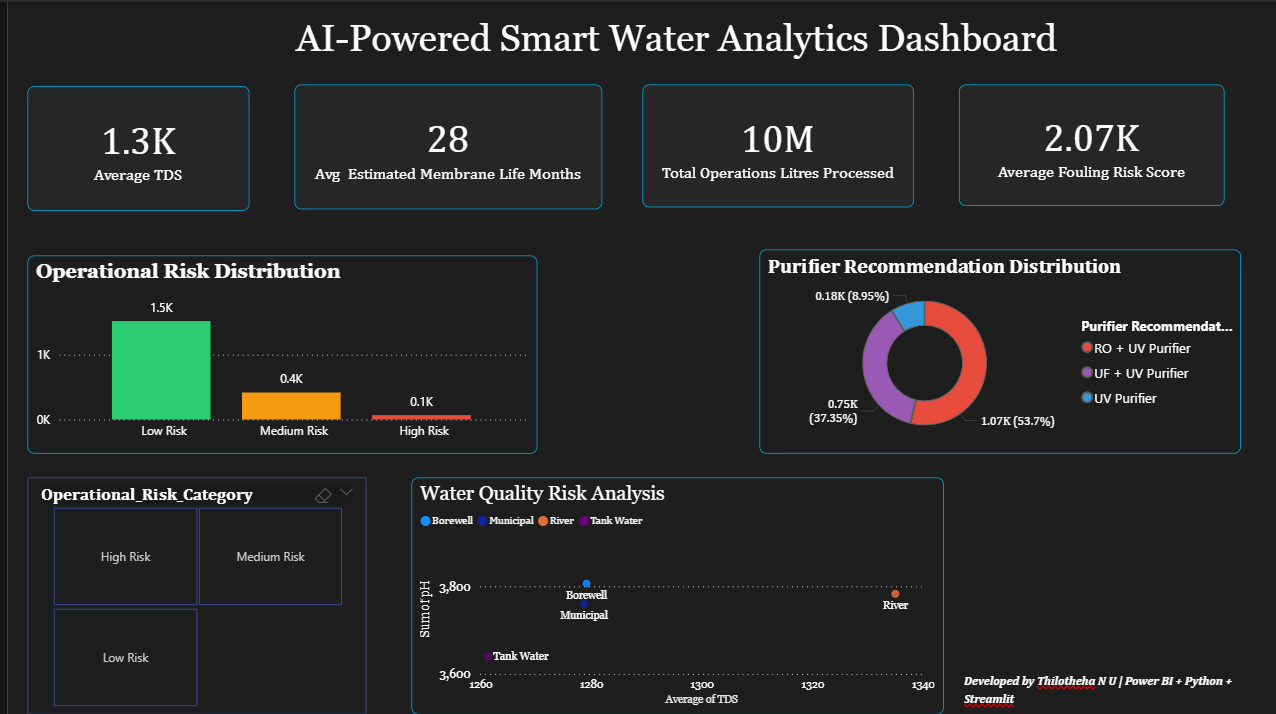

The dashboard page shown, as its layout file describes it:
{"tool":"powerbi","page":{"name":"Page 1","canvas":[1280,720],"ordinal":0},"visuals":[{"type":"card","fields":{"Values":["Avg(smart_water_operational_data.TDS)"]},"box":[19.7,84.8,224.1,125.7],"z":0},{"type":"card","fields":{"Values":["Avg(smart_water_operational_data.Estimated_Membrane_Life_Months)"]},"box":[289.2,83.3,310.4,125.7],"z":1000},{"type":"card","fields":{"Values":["Sum(smart_water_operational_data.Litres_Processed)"]},"box":[640.5,83.3,274.1,124.2],"z":2000},{"type":"card","fields":{"Values":["Avg(smart_water_operational_data.Fouling_Risk_Score)"]},"box":[960,83.3,268,122.7],"z":3000},{"type":"clusteredColumnChart","title":"Operational Risk Distribution","fields":{"Category":["smart_water_operational_data.Operational_Risk_Category"],"Y":["CountNonNull(smart_water_operational_data.Operational_Risk_Category)"]},"box":[19.7,255.9,514.8,199.9],"z":4000},{"type":"donutChart","title":"Purifier Recommendation Distribution","fields":{"Category":["smart_water_operational_data.Purifier_Recommendation"],"Y":["CountNonNull(smart_water_operational_data.Purifier_Recommendation)"]},"box":[758.6,249.8,486.1,205.9],"z":5000},{"type":"scatterChart","title":"Water Quality Risk Analysis","fields":{"X":["Avg(smart_water_operational_data.TDS)"],"Y":["Sum(smart_water_operational_data.pH)"],"Size":["Sum(smart_water_operational_data.Fouling_Risk_Score)"],"Series":["smart_water_operational_data.Water_Source"]},"box":[407.3,480,537.5,239.2],"z":6000},{"type":"slicer","fields":{"Values":["smart_water_operational_data.Operational_Risk_Category"]},"box":[19.7,480,342.2,239.2],"z":7000},{"type":"textbox","box":[86.3,10.6,1047.8,59.1],"z":8000},{"type":"textbox","box":[960,669.3,319.5,50],"z":9000}]}

Visuals, with their boxes in screenshot pixels (x1, y1, x2, y2), scaled from the page's 1280x720 canvas onto the 1276x714 screenshot:
card - Avg(smart_water_operational_data.TDS): <region>20, 84, 243, 209</region>
card - Avg(smart_water_operational_data.Estimated_Membrane_Life_Months): <region>288, 83, 598, 207</region>
card - Sum(smart_water_operational_data.Litres_Processed): <region>638, 83, 912, 206</region>
card - Avg(smart_water_operational_data.Fouling_Risk_Score): <region>957, 83, 1224, 204</region>
"Operational Risk Distribution" clusteredColumnChart: <region>20, 254, 533, 452</region>
"Purifier Recommendation Distribution" donutChart: <region>756, 248, 1241, 452</region>
"Water Quality Risk Analysis" scatterChart: <region>406, 476, 942, 713</region>
slicer - smart_water_operational_data.Operational_Risk_Category: <region>20, 476, 361, 713</region>
textbox: <region>86, 11, 1131, 69</region>
textbox: <region>957, 664, 1275, 713</region>
